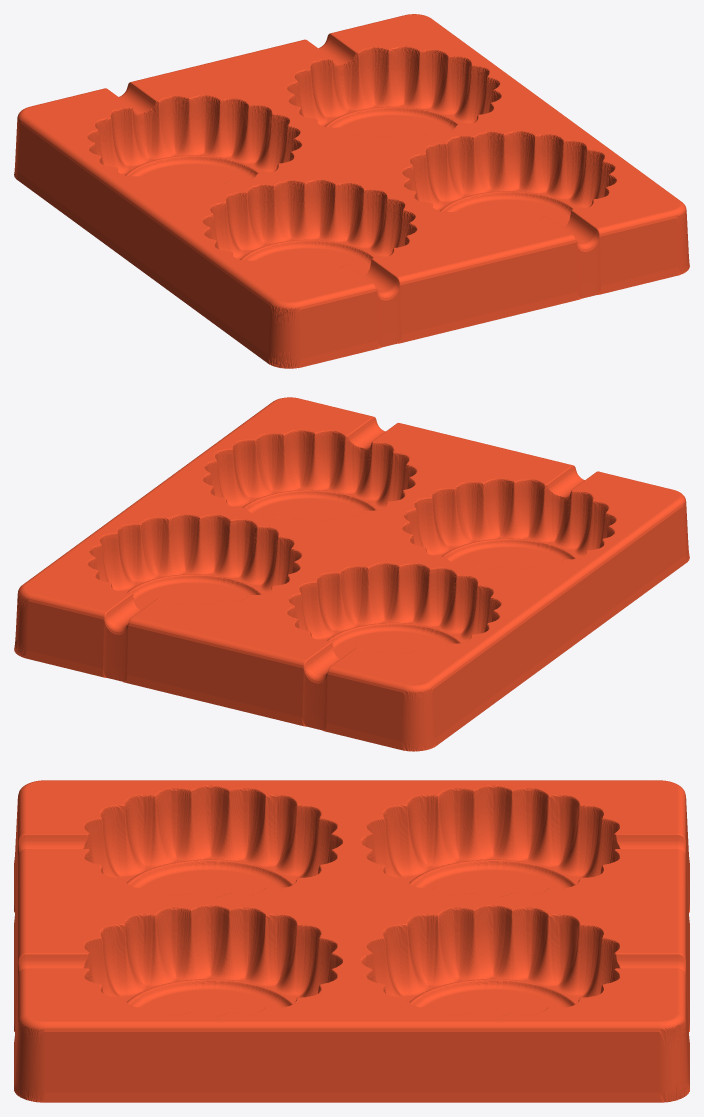
The model's file is mold.glb.
The picture shows the model from 3 angles, top to bottom: view 1: azimuth 30°, elevation 25°; view 2: azimuth 150°, elevation 25°; view 3: azimuth 270°, elevation 25°; orthographic projection. The views are drawn at different scales.
Parts seen in each view (by area): view 1: geometry_0; view 2: geometry_0; view 3: geometry_0.
Boxes of the visible parts, box(x1,y1,x2,y2) form: geometry_0: box(14, 14, 689, 368); geometry_0: box(14, 397, 689, 751); geometry_0: box(14, 780, 689, 1102).
Bounding box in the file's own units: 0.1726 × 0.0245 × 0.1968.
